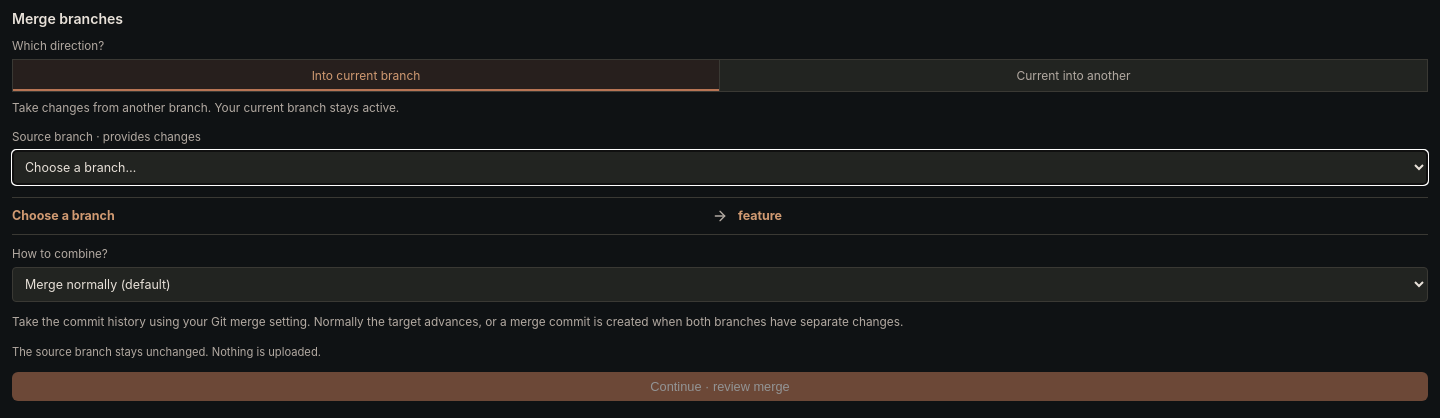
Test: guided topbar merge menu › explains squash staging and the fast-forward restriction beside the mode selector
Select "Combine for one commit (squash)" in the dropdown labelled "How to combine?": x=720, y=284 [12,267,1428,302]
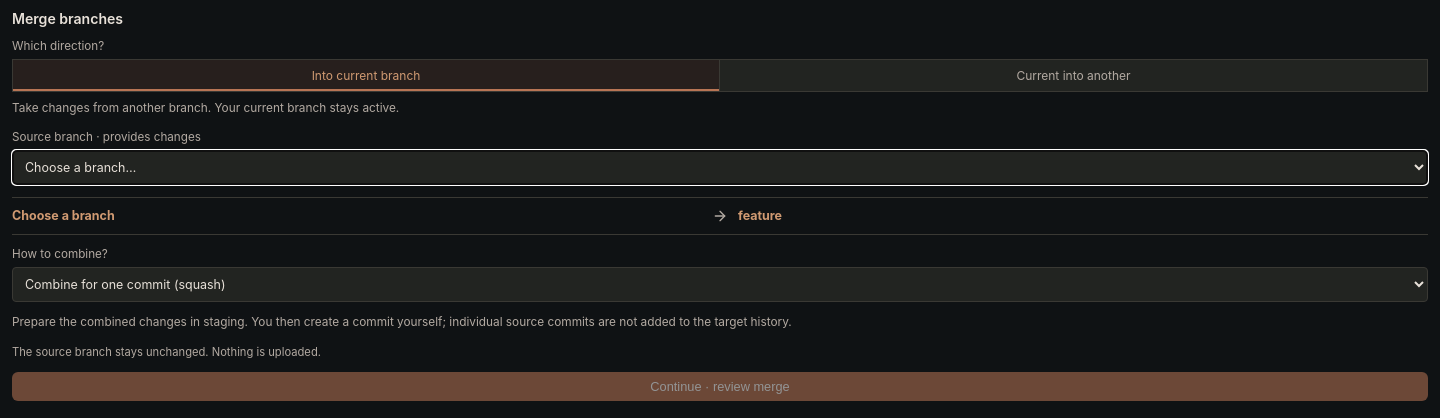
Check: the text with class "merge-menu-explanation" shows "You then create a commit yourself", box [12,315,792,329]
Select "Only advance the branch (fast-forward)" in the dropdown labelled "How to combine?": x=720, y=284 [12,267,1428,302]
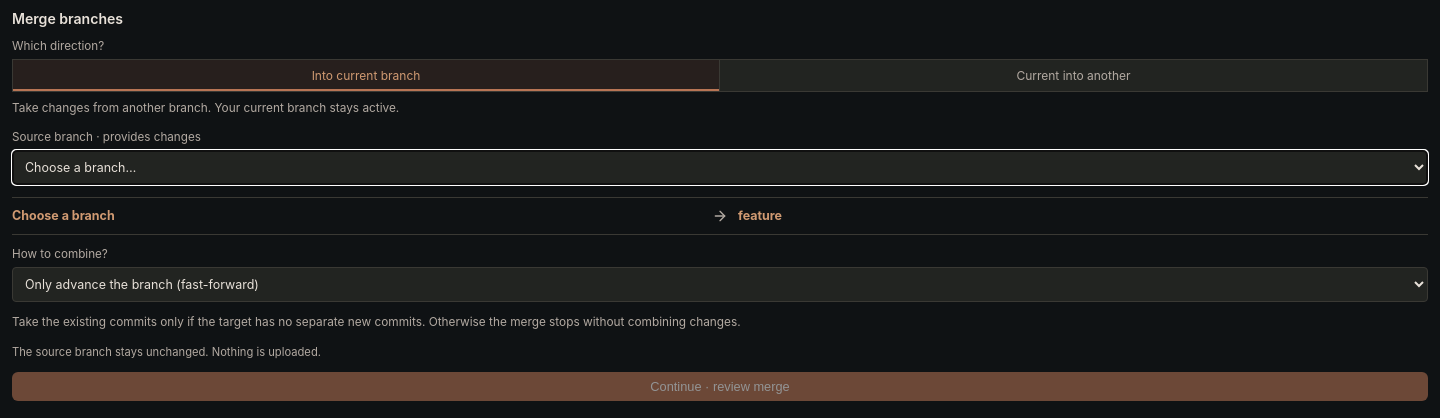
Check: the text with class "merge-menu-explanation" shows "Otherwise the merge stops", box [12,315,741,329]
